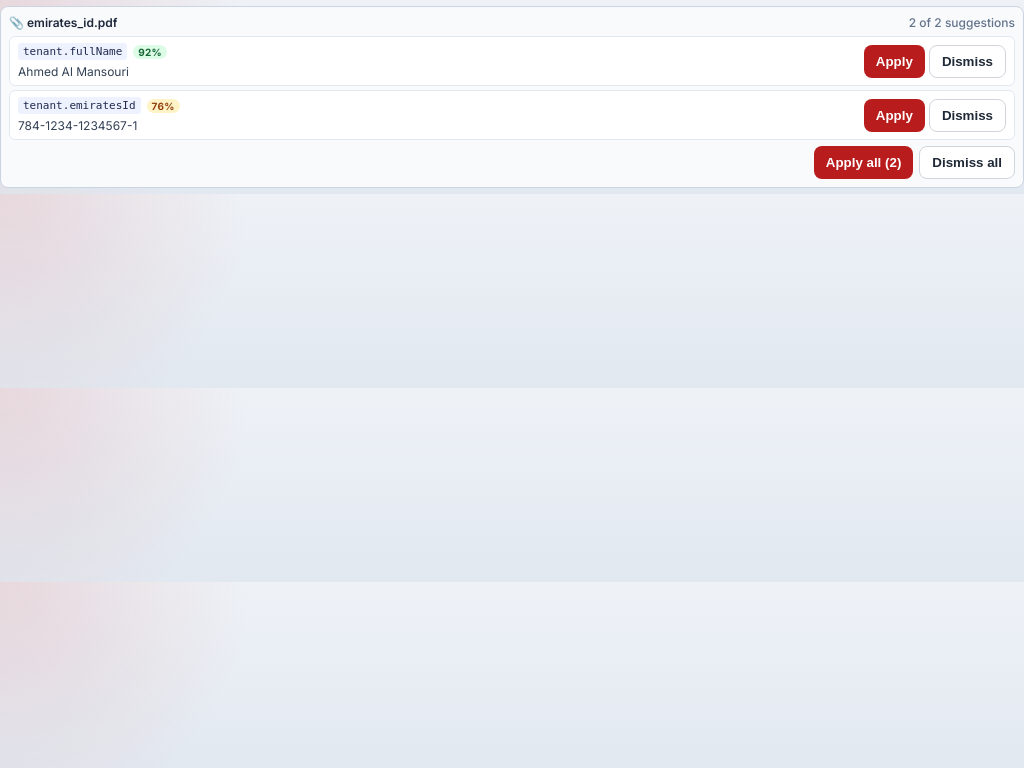
Test: FileExtractionPanel — Apply All › "Apply all" button is disabled when all are already applied
Click the button "Apply all (2)" at (864, 162), box [814,146,913,179]
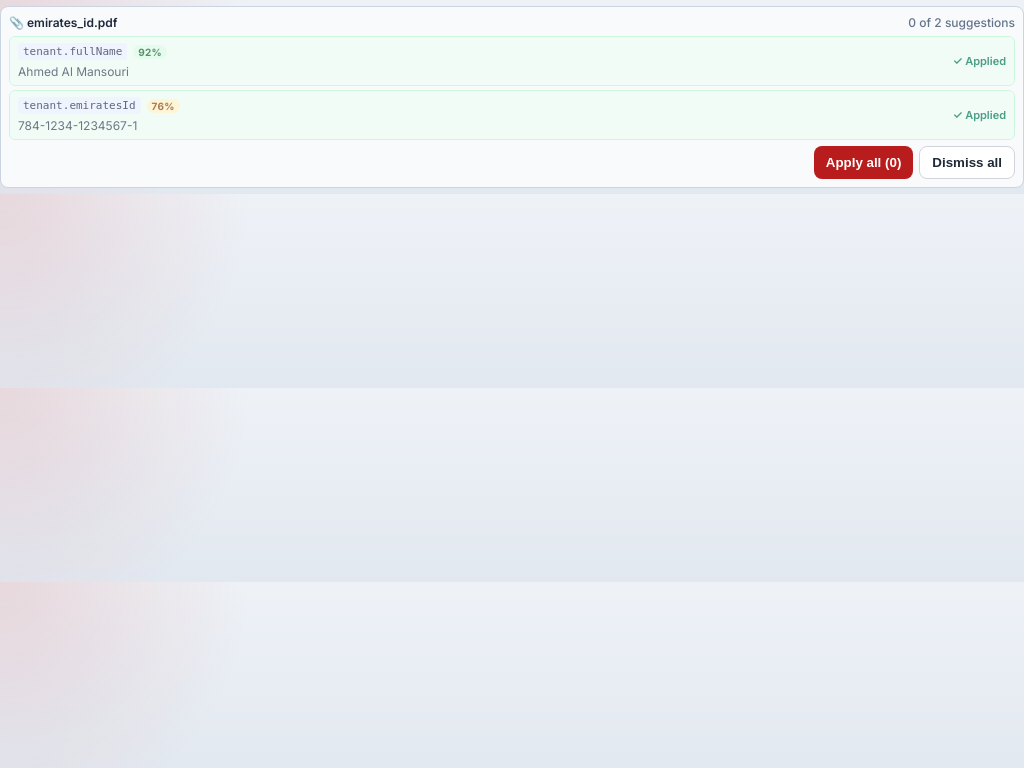
Expected: the button "Apply all (0)" is disabled, [814,146,913,179]
